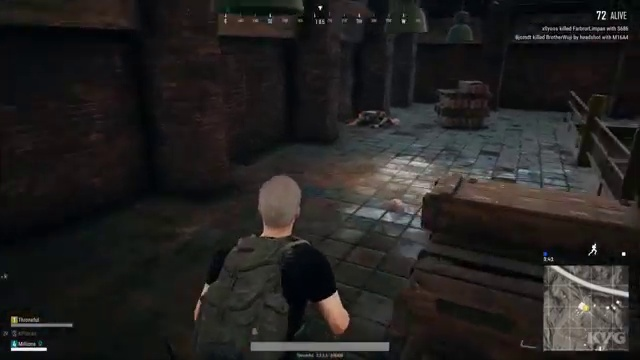Player: (166, 177, 360, 331)
